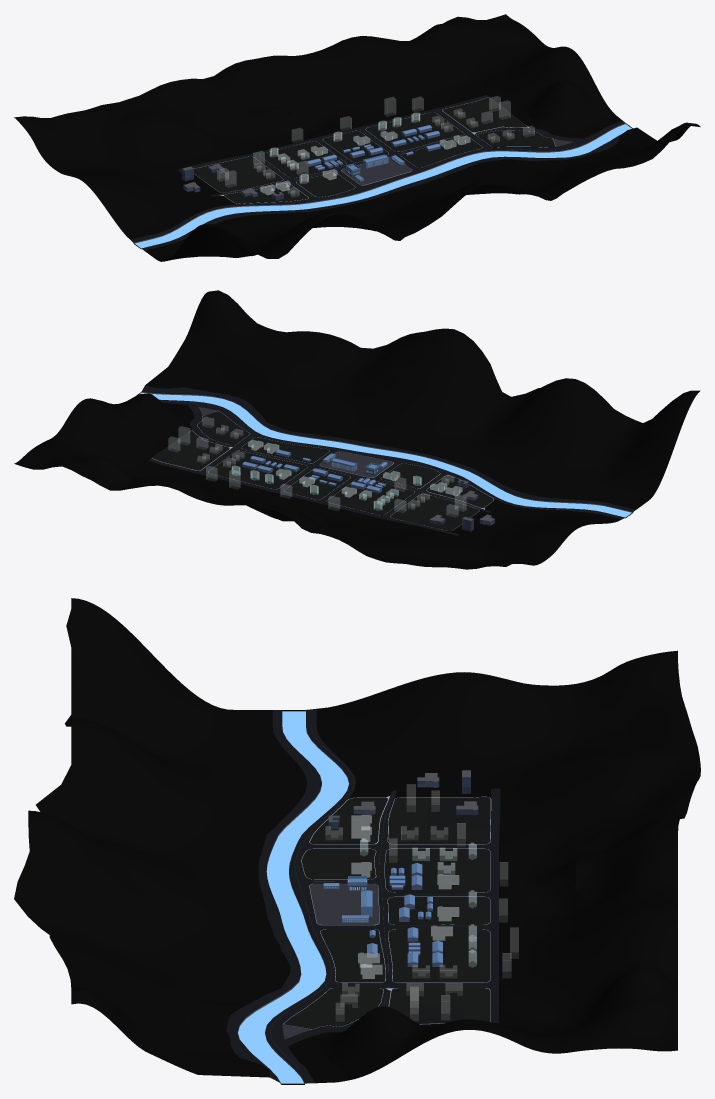
File: scene-main.glb
3 views of the same model, one above another, from view 1: azimuth 30°, elevation 25°; view 2: azimuth 150°, elevation 25°; view 3: azimuth 270°, elevation 25° (orthographic). The views are drawn at different scales.
Visible parts, largest first — view 1: 平面009_4, 平面009_3, 平面009_2, 平面009_5, 平面009_1, 平面009_6, 平面009; view 2: 平面009_4, 平面009_3, 平面009_2, 平面009_5, 平面009_1, 平面009, 平面009_6; view 3: 平面009_4, 平面009_3, 平面009_2, 平面009_5, 平面009_1, 平面009.
Boxes of the visible parts, x1,y1,x2,y2 form: 平面009_4: (14, 14, 700, 261); 平面009_3: (194, 97, 555, 203); 平面009_2: (130, 95, 625, 250); 平面009_5: (135, 124, 631, 248); 平面009_1: (317, 97, 573, 197); 平面009_6: (134, 123, 625, 249); 平面009: (194, 97, 555, 203); 平面009_4: (14, 290, 700, 569); 平面009_3: (152, 411, 493, 530); 平面009_2: (141, 385, 635, 535); 平面009_5: (139, 392, 631, 517); 平面009_1: (152, 406, 393, 499); 平面009: (151, 410, 493, 530); 平面009_6: (141, 392, 632, 518); 平面009_4: (14, 598, 700, 1084); 平面009_3: (283, 797, 490, 1029); 平面009_2: (226, 709, 500, 1083); 平面009_5: (238, 711, 348, 1083); 平面009_1: (282, 851, 489, 1039); 平面009: (283, 796, 491, 1029).
Bounding box in the file's own units: 3008 × 481 × 2337.
